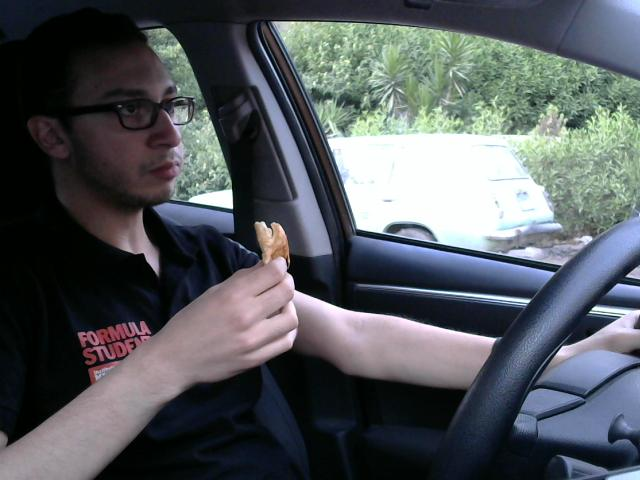Eating: (245, 215, 296, 293)
